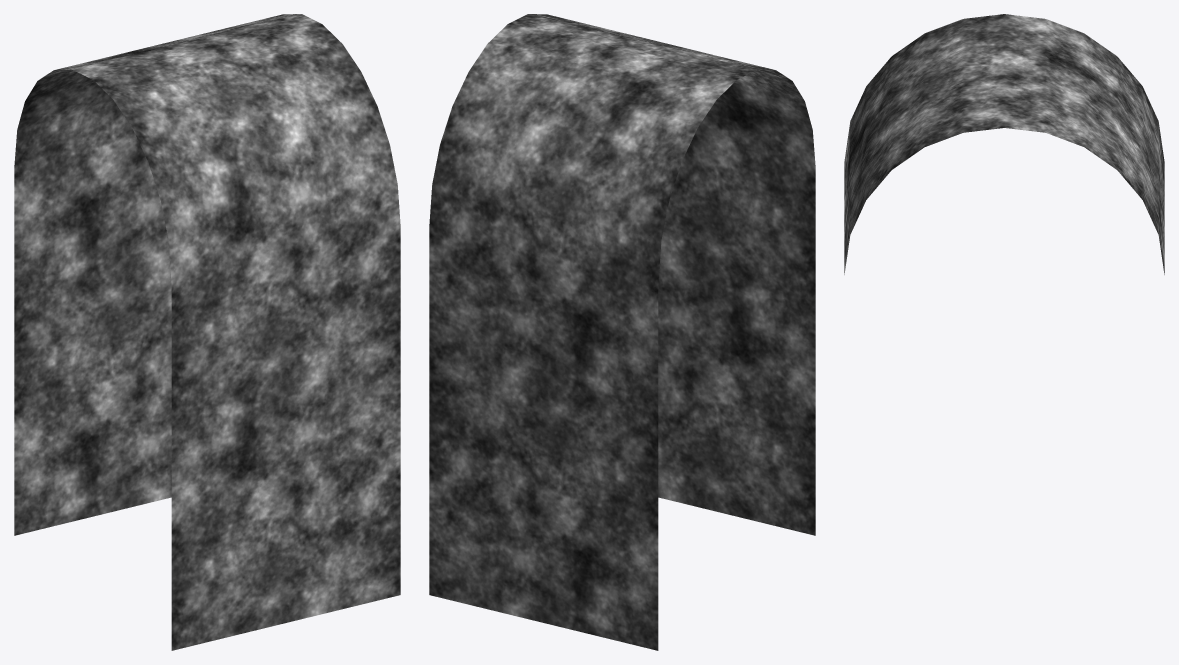
Rendered from SM_small_temple_wall_arch_01.fbx.
The picture shows the model from 3 angles, left to right: view 1: azimuth 30°, elevation 25°; view 2: azimuth 150°, elevation 25°; view 3: azimuth 270°, elevation 25°; orthographic projection.
Visible parts, largest first — view 1: SM_small_temple_wall_arch_01_LOD0; view 2: SM_small_temple_wall_arch_01_LOD0; view 3: SM_small_temple_wall_arch_01_LOD0.
Part boxes in pixels (<box>): SM_small_temple_wall_arch_01_LOD0: <box>14,14,400,650</box>; SM_small_temple_wall_arch_01_LOD0: <box>429,14,815,650</box>; SM_small_temple_wall_arch_01_LOD0: <box>844,14,1164,274</box>.
Size of the model in its own units: 200 by 238 by 428.
